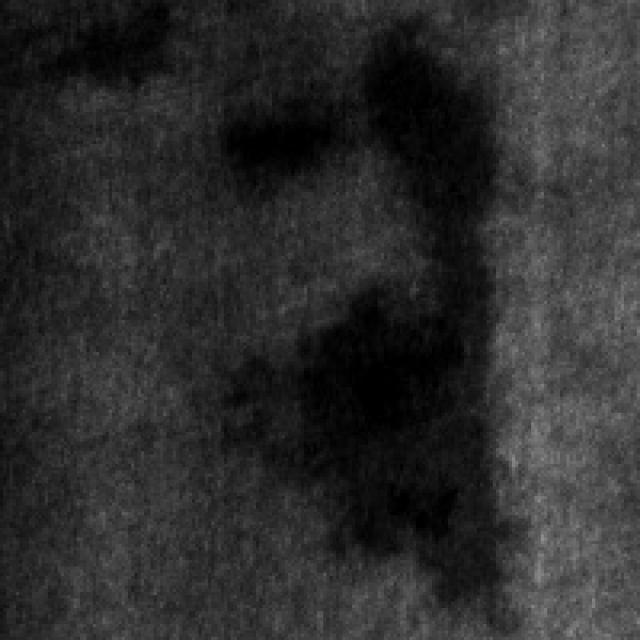patches: (227, 237, 496, 560), (356, 6, 502, 228), (214, 93, 336, 198), (42, 0, 170, 90)
